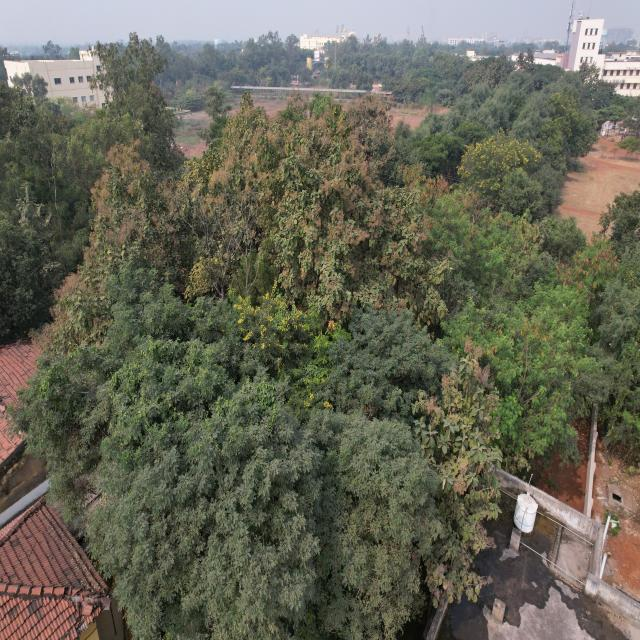Devakanchan tree: (509, 174, 540, 213), (616, 196, 637, 247)
Neem Tree: (246, 255, 269, 301)
